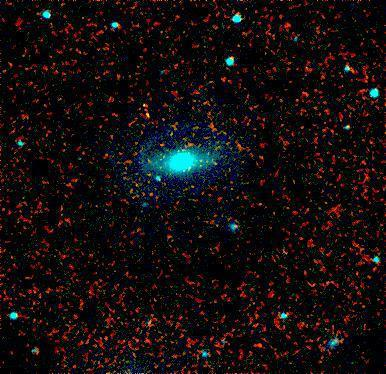star: (125, 94, 155, 124)
